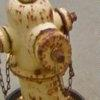Hydrant: (3, 3, 83, 100)
